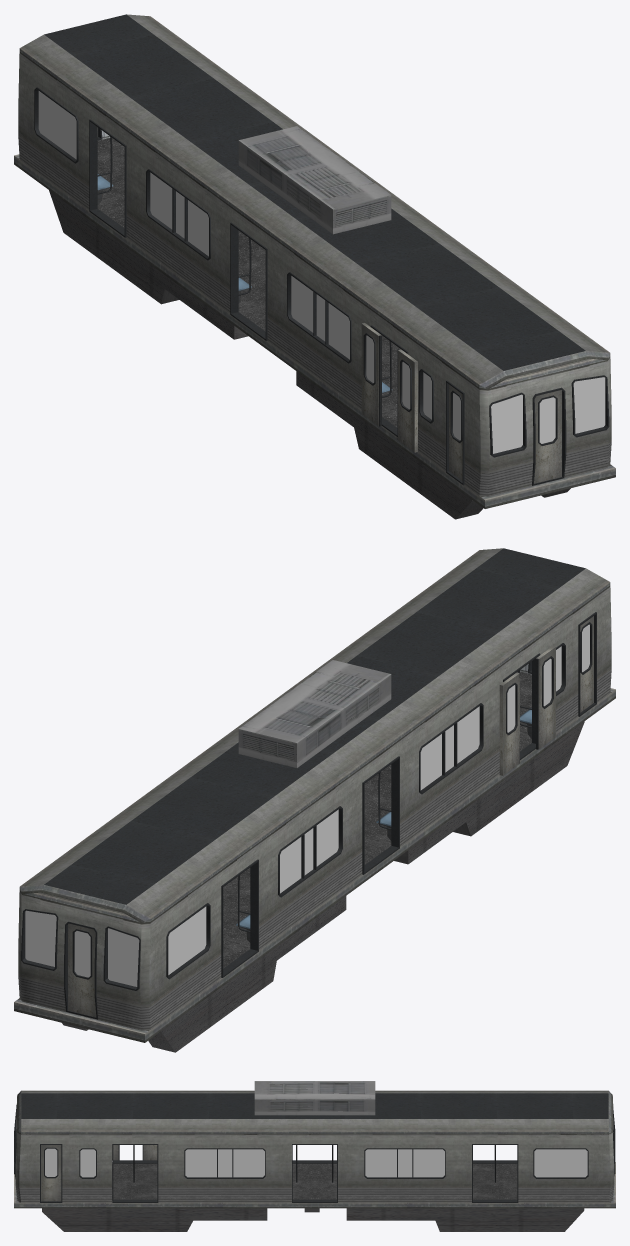
File: Train.fbx
3 views of the same model, one above another, from view 1: azimuth 30°, elevation 25°; view 2: azimuth 150°, elevation 25°; view 3: azimuth 270°, elevation 25° (orthographic). The views are drawn at different scales.
Visible parts, largest first — view 1: subway_car.215, subway_car.004, subway_car.006; view 2: subway_car.215, subway_car.006, subway_car.004; view 3: subway_car.215, subway_car.006.
Part boxes in pixels (x1,y1,x2,y2): subway_car.215: (14,14,615,519); subway_car.004: (397,349,417,452); subway_car.006: (361,323,381,426); subway_car.215: (14,548,615,1052); subway_car.006: (499,672,519,775); subway_car.004: (536,646,555,749); subway_car.215: (14,1081,615,1231); subway_car.006: (142,1145,157,1160).
Bounding box in the file's own units: 396 × 533 × 2339.
